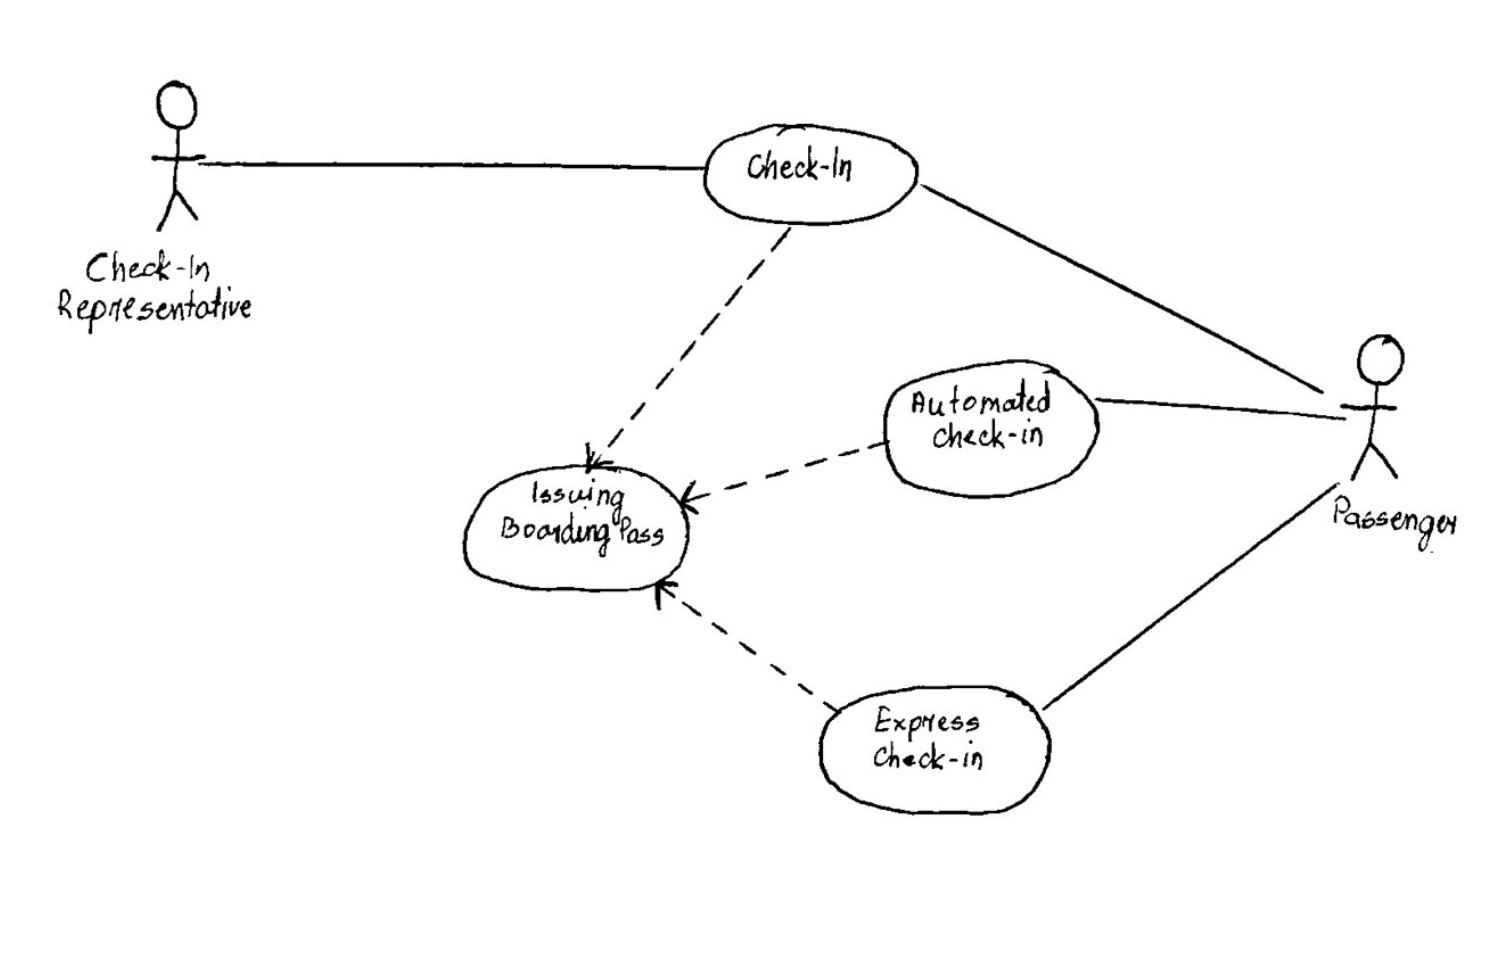actor: (1340, 328, 1405, 485), (145, 70, 207, 231)
association: (919, 184, 1326, 398), (1040, 481, 1338, 711), (586, 222, 795, 476), (203, 132, 700, 192), (652, 579, 835, 712), (679, 436, 889, 512), (1093, 386, 1342, 436)
text: (45, 244, 267, 332), (497, 481, 669, 558), (910, 382, 1056, 454), (1327, 490, 1475, 560), (876, 707, 1002, 783), (737, 142, 867, 194)
use_case: (817, 682, 1053, 820), (883, 357, 1100, 502), (460, 462, 690, 595), (702, 121, 918, 228)
